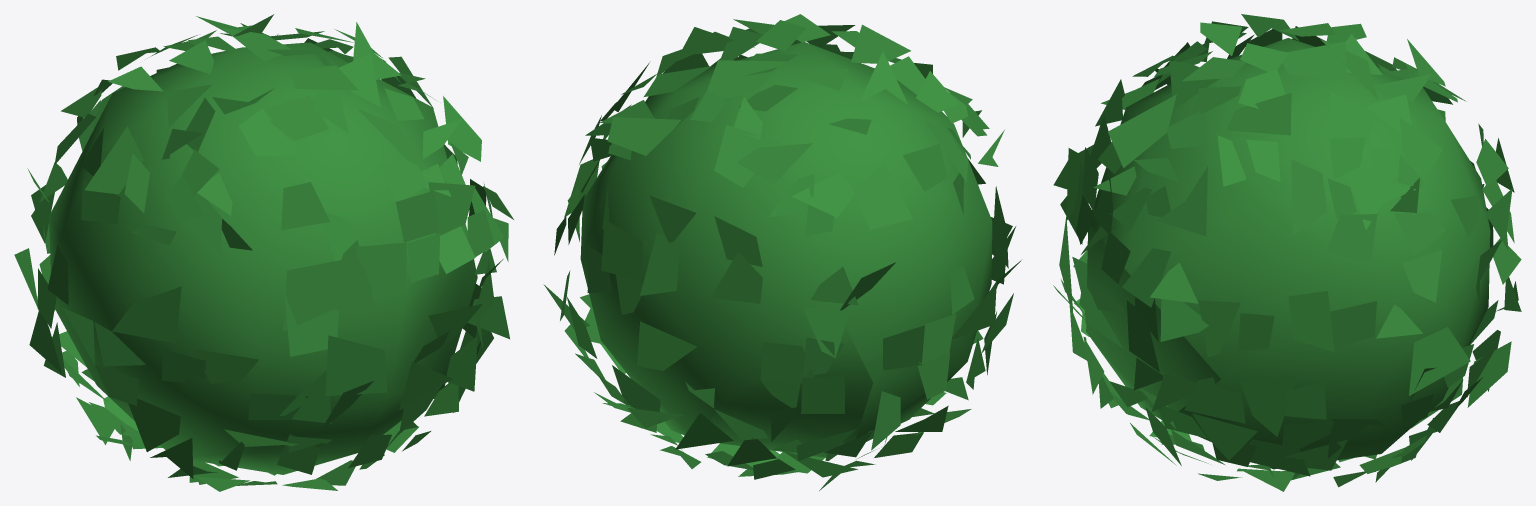
The model's file is Bush.fbx.
The picture shows the model from 3 angles, left to right: view 1: azimuth 30°, elevation 25°; view 2: azimuth 150°, elevation 25°; view 3: azimuth 270°, elevation 25°; orthographic projection. The views are drawn at different scales.
Visible parts, largest first — view 1: Bush; view 2: Bush; view 3: Bush.
Part boxes in pixels (x1,y1,x2,y2): Bush: (14,14,513,491); Bush: (543,14,1021,490); Bush: (1053,14,1521,491).
Size of the model in its own units: 31.6 by 31.94 by 31.86.
